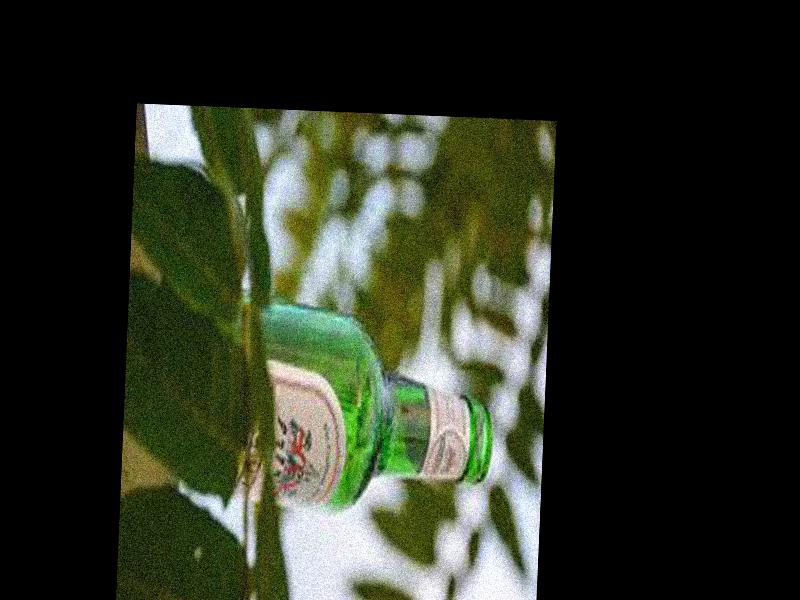Beer: (228, 303, 497, 516)
